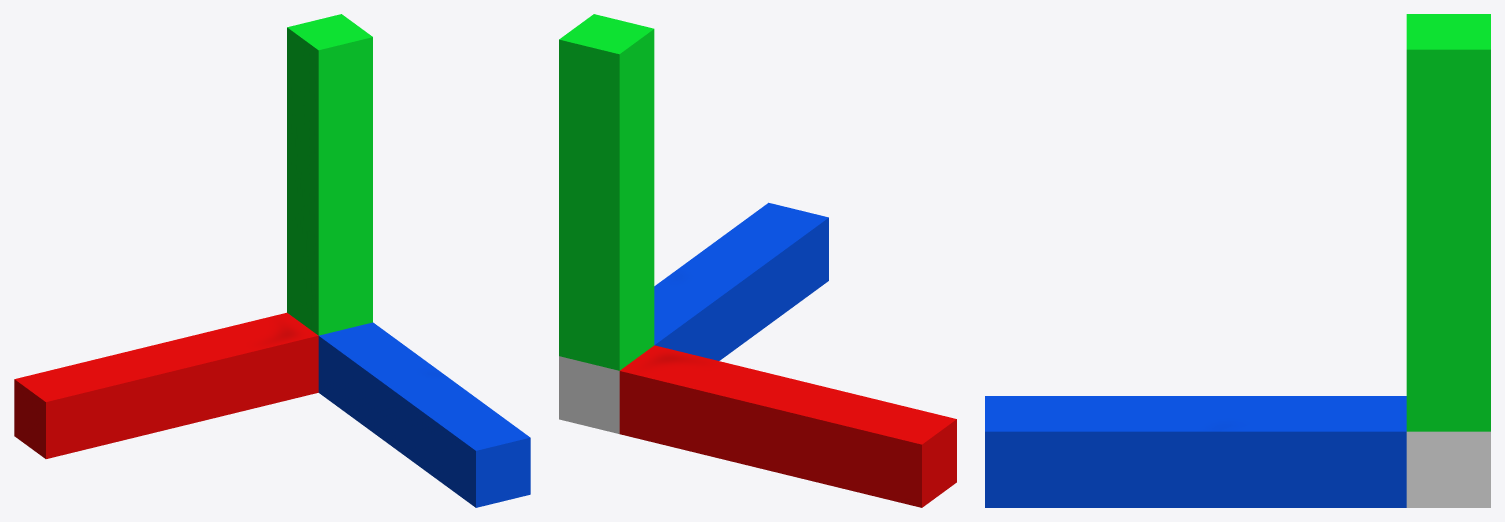
The model's file is Axis.obj.
3 renders of one model, left to right at view 1: azimuth 30°, elevation 25°; view 2: azimuth 150°, elevation 25°; view 3: azimuth 270°, elevation 25°, orthographic. The views are drawn at different scales.
Parts seen in each view (by area): view 1: 立方体; view 2: 立方体; view 3: 立方体.
Part boxes in pixels (x1,y1,x2,y2): 立方体: [14, 14, 530, 507]; 立方体: [559, 14, 956, 507]; 立方体: [985, 14, 1490, 507].
Size of the model in its own units: 12 by 12 by 12.
1 material, 1 textured.
